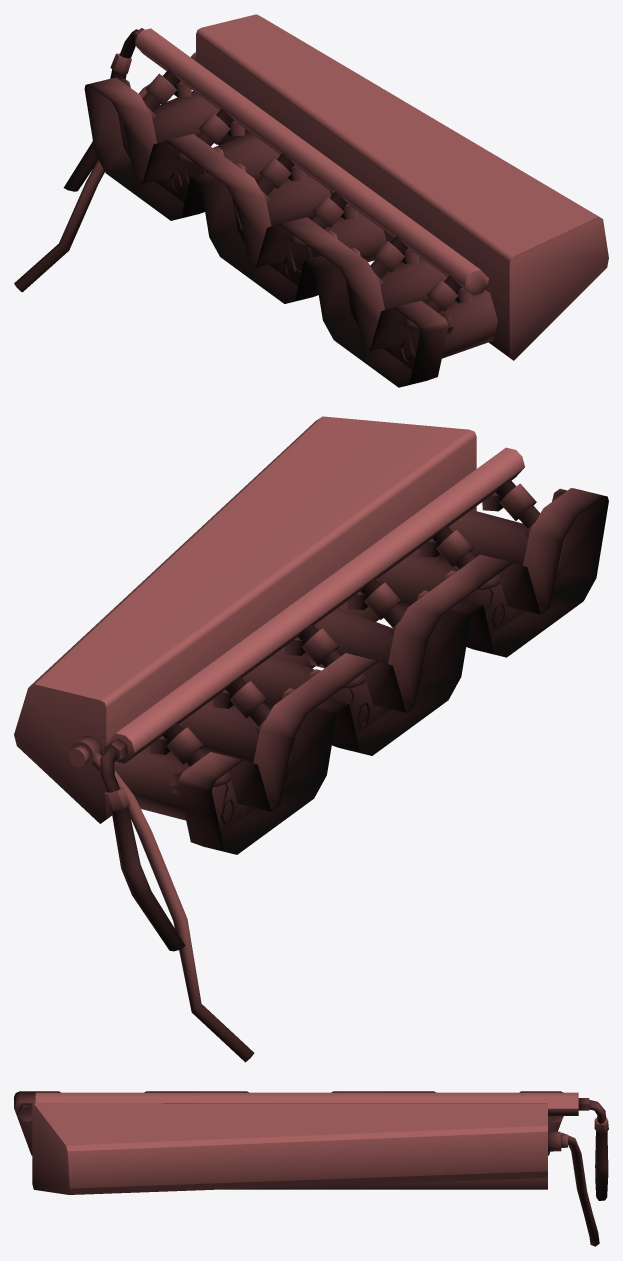
Rendered from JZ_IntakeManifoldBlown1.fbx.
3 views of the same model, one above another, from view 1: azimuth 30°, elevation 25°; view 2: azimuth 150°, elevation 25°; view 3: azimuth 270°, elevation 25° (orthographic). The views are drawn at different scales.
Parts seen in each view (by area): view 1: IntakeManifoldBlown1; view 2: IntakeManifoldBlown1; view 3: IntakeManifoldBlown1.
Boxes of the visible parts, x1,y1,x2,y2 form: IntakeManifoldBlown1: (14,14,608,387); IntakeManifoldBlown1: (14,416,608,1062); IntakeManifoldBlown1: (14,1091,608,1246).
Bounding box in the file's own units: 33.14 × 28.59 × 75.51.
